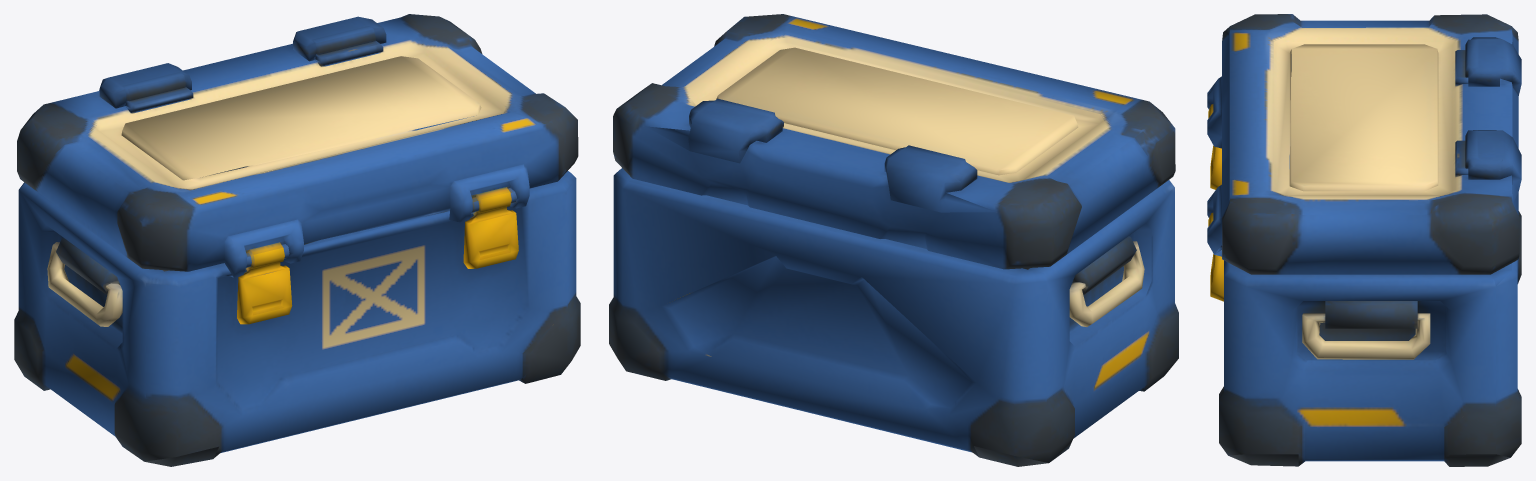
Rendered from cargo_crate_01.glb.
3 renders of one model, left to right at view 1: azimuth 30°, elevation 25°; view 2: azimuth 150°, elevation 25°; view 3: azimuth 270°, elevation 25°, orthographic. The views are drawn at different scales.
Visible parts, largest first — view 1: ammo_box_01; view 2: ammo_box_01; view 3: ammo_box_01.
Boxes of the visible parts, box(x1,y1,x2,y2) form: ammo_box_01: box(14, 14, 580, 466); ammo_box_01: box(609, 14, 1178, 466); ammo_box_01: box(1207, 14, 1521, 466).
Bounding box in the file's own units: 0.3 × 0.1747 × 0.1865.
1 material, 1 textured.
